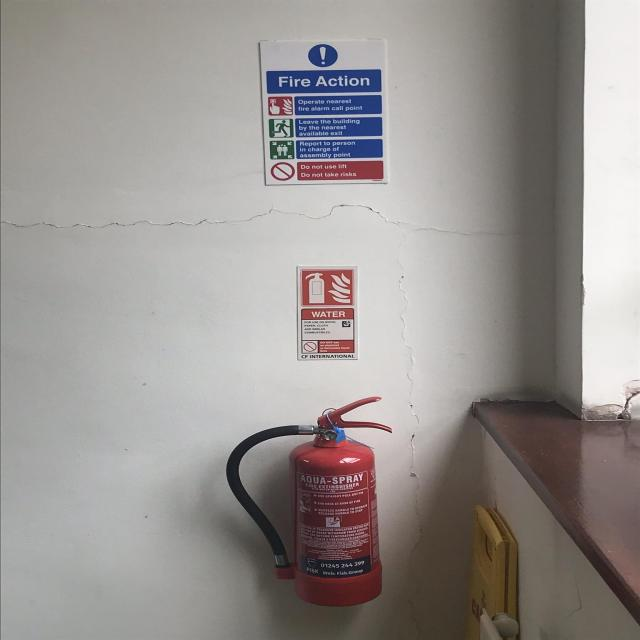fire_extinguisher: (220, 394, 397, 610)
